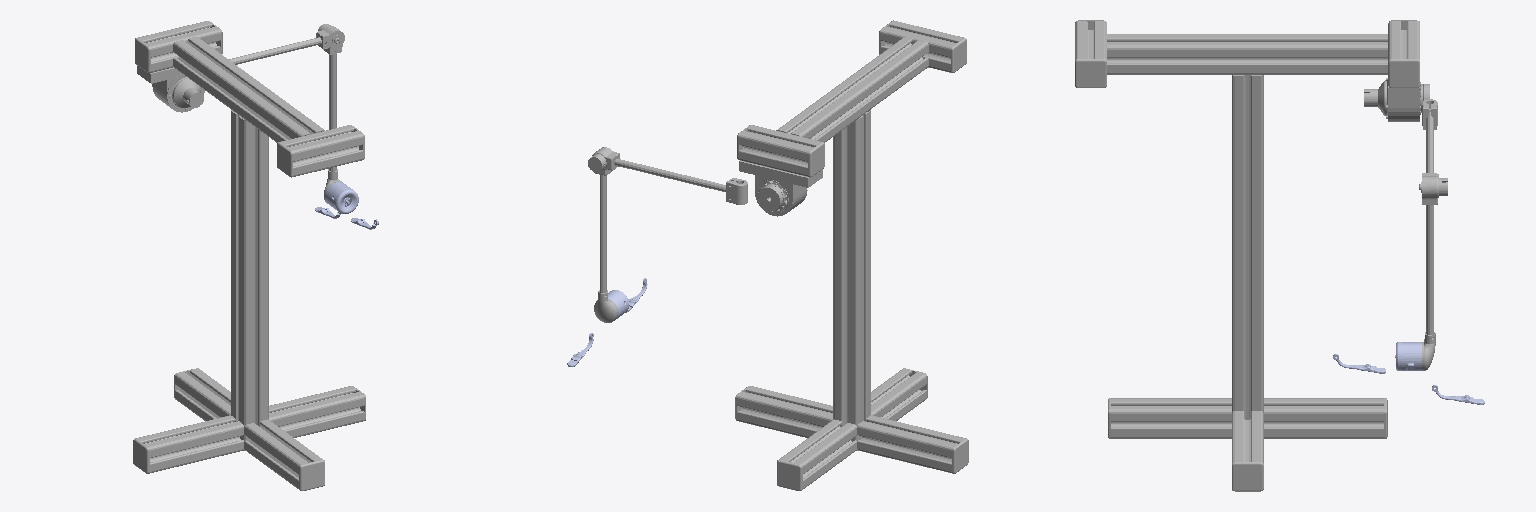
The robot description file, URDF, robot "simple_mtm":
<?xml version="1.0" encoding="utf-8"?>
<!-- This URDF was automatically created by SolidWorks to URDF Exporter! Originally created by Stephen Brawner (brawner@gmail.com) 
     Commit Version: 1.6.0-4-g7f85cfe  Build Version: 1.6.7995.38578
     For more information, please see http://wiki.ros.org/sw_urdf_exporter -->
<robot
  name="simple_mtm">
  <link
    name="base_link">
    <inertial>
      <origin
        xyz="5.47199332572765E-12 0.121119699522856 -0.0331941103362252"
        rpy="0 0 0" />
      <mass
        value="1.10120945723253" />
      <inertia
        ixx="0.00778946719068148"
        ixy="-7.15588223428412E-15"
        ixz="1.55089536398017E-14"
        iyy="0.00283497412761364"
        iyz="6.01985020734708E-07"
        izz="0.00613139149583514" />
    </inertial>
    <visual>
      <origin
        xyz="0 0 0"
        rpy="0 0 0" />
      <geometry>
        <mesh
          filename="package://simple_mtm/meshes/base_link.STL" />
      </geometry>
      <material
        name="">
        <color
          rgba="0.752941176470588 0.752941176470588 0.752941176470588 1" />
      </material>
    </visual>
    <collision>
      <origin
        xyz="0 0 0"
        rpy="0 0 0" />
      <geometry>
        <mesh
          filename="package://simple_mtm/meshes/base_link.STL" />
      </geometry>
    </collision>
  </link>
  <link
    name="right_J1_link">
    <inertial>
      <origin
        xyz="-0.0272468641090276 -0.00431239962158658 0.0136177788693085"
        rpy="0 0 0" />
      <mass
        value="0.217265269014196" />
      <inertia
        ixx="8.82896586774553E-05"
        ixy="-5.23747831657551E-06"
        ixz="4.84618661160366E-07"
        iyy="9.88337545554135E-05"
        iyz="3.16056040568793E-07"
        izz="0.000161817724573326" />
    </inertial>
    <visual>
      <origin
        xyz="0 0 0"
        rpy="0 0 0" />
      <geometry>
        <mesh
          filename="package://simple_mtm/meshes/right_J1_link.STL" />
      </geometry>
      <material
        name="">
        <color
          rgba="0.752941176470588 0.752941176470588 0.752941176470588 1" />
      </material>
    </visual>
    <collision>
      <origin
        xyz="0 0 0"
        rpy="0 0 0" />
      <geometry>
        <mesh
          filename="package://simple_mtm/meshes/right_J1_link.STL" />
      </geometry>
    </collision>
  </link>
  <joint
    name="right_J1_joint"
    type="continuous">
    <origin
      xyz="0 0.217 0.285"
      rpy="-1.5708 0 0" />
    <parent
      link="base_link" />
    <child
      link="right_J1_link" />
    <axis
      xyz="0 0 1" />
  </joint>
  <link
    name="right_J2_link">
    <inertial>
      <origin
        xyz="-0.113474393867848 0.00107776626147305 -1.35568759274118E-07"
        rpy="0 0 0" />
      <mass
        value="0.028442603557216" />
      <inertia
        ixx="2.23413747833826E-06"
        ixy="-8.63056316192389E-08"
        ixz="-3.63778380649549E-11"
        iyy="2.18319915210086E-05"
        iyz="1.9508735397818E-13"
        izz="2.11946804960037E-05" />
    </inertial>
    <visual>
      <origin
        xyz="0 0 0"
        rpy="0 0 0" />
      <geometry>
        <mesh
          filename="package://simple_mtm/meshes/right_J2_link.STL" />
      </geometry>
      <material
        name="">
        <color
          rgba="0.752941176470588 0.752941176470588 0.752941176470588 1" />
      </material>
    </visual>
    <collision>
      <origin
        xyz="0 0 0"
        rpy="0 0 0" />
      <geometry>
        <mesh
          filename="package://simple_mtm/meshes/right_J2_link.STL" />
      </geometry>
    </collision>
  </link>
  <joint
    name="right_J2_joint"
    type="continuous">
    <origin
      xyz="0.045 0 0.01"
      rpy="1.5708 0 -3.1416" />
    <parent
      link="right_J1_link" />
    <child
      link="right_J2_link" />
    <axis
      xyz="0 0 -1" />
  </joint>
  <link
    name="right_J3_link">
    <inertial>
      <origin
        xyz="0.169855168699459 -0.00305883869518506 0.000145482432677757"
        rpy="0 0 0" />
      <mass
        value="0.0380698507753149" />
      <inertia
        ixx="3.57015181851886E-06"
        ixy="5.77797289979546E-08"
        ixz="-8.33816062442827E-09"
        iyy="2.5059042912064E-05"
        iyz="-4.10119336283237E-09"
        izz="2.3245937933752E-05" />
    </inertial>
    <visual>
      <origin
        xyz="0 0 0"
        rpy="0 0 0" />
      <geometry>
        <mesh
          filename="package://simple_mtm/meshes/right_J3_link.STL" />
      </geometry>
      <material
        name="">
        <color
          rgba="0.752941176470588 0.752941176470588 0.752941176470588 1" />
      </material>
    </visual>
    <collision>
      <origin
        xyz="0 0 0"
        rpy="0 0 0" />
      <geometry>
        <mesh
          filename="package://simple_mtm/meshes/right_J3_link.STL" />
      </geometry>
    </collision>
  </link>
  <joint
    name="right_J3_joint"
    type="continuous">
    <origin
      xyz="-0.2175 -0.0095 0"
      rpy="0 -1.5708 0" />
    <parent
      link="right_J2_link" />
    <child
      link="right_J3_link" />
    <axis
      xyz="0 1 0" />
  </joint>
  <link
    name="right_G3_link">
    <inertial>
      <origin
        xyz="-0.000538298034257867 -0.0205137660110619 -6.93755568065696E-05"
        rpy="0 0 0" />
      <mass
        value="0.0139115090394775" />
      <inertia
        ixx="2.05714095768685E-06"
        ixy="1.18920441797098E-08"
        ixz="1.26103314022523E-08"
        iyy="3.24885522100955E-06"
        iyz="8.79998026858796E-09"
        izz="2.08516206561186E-06" />
    </inertial>
    <visual>
      <origin
        xyz="0 0 0"
        rpy="0 0 0" />
      <geometry>
        <mesh
          filename="package://simple_mtm/meshes/right_G3_link.STL" />
      </geometry>
      <material
        name="">
        <color
          rgba="0.792156862745098 0.819607843137255 0.933333333333333 1" />
      </material>
    </visual>
    <collision>
      <origin
        xyz="0 0 0"
        rpy="0 0 0" />
      <geometry>
        <mesh
          filename="package://simple_mtm/meshes/right_G3_link.STL" />
      </geometry>
    </collision>
  </link>
  <joint
    name="right_G3_joint"
    type="continuous">
    <origin
      xyz="0.2325 -0.0005 0"
      rpy="0 1.5708 0" />
    <parent
      link="right_J3_link" />
    <child
      link="right_G3_link" />
    <axis
      xyz="0 1 0" />
  </joint>
  <link
    name="right_G2_link">
    <inertial>
      <origin
        xyz="-0.000390964800847493 2.19780089573407E-05 -0.00102567858648986"
        rpy="0 0 0" />
      <mass
        value="0.000175394578104925" />
      <inertia
        ixx="6.00806245621315E-09"
        ixy="1.19071568961015E-11"
        ixz="-1.77273008759156E-09"
        iyy="7.79464906245331E-09"
        iyz="3.12378910526835E-11"
        izz="2.03310817422897E-09" />
    </inertial>
    <visual>
      <origin
        xyz="0 0 0"
        rpy="0 0 0" />
      <geometry>
        <mesh
          filename="package://simple_mtm/meshes/right_G2_link.STL" />
      </geometry>
      <material
        name="">
        <color
          rgba="0.792156862745098 0.819607843137255 0.933333333333333 1" />
      </material>
    </visual>
    <collision>
      <origin
        xyz="0 0 0"
        rpy="0 0 0" />
      <geometry>
        <mesh
          filename="package://simple_mtm/meshes/right_G2_link.STL" />
      </geometry>
    </collision>
  </link>
  <joint
    name="right_G2_joint"
    type="continuous">
    <origin
      xyz="0 -0.02253 0"
      rpy="-3.1416 0.36417 -3.1416" />
    <parent
      link="right_G3_link" />
    <child
      link="right_G2_link" />
    <axis
      xyz="0.35618 0 0.93442" />
  </joint>
  <link
    name="right_G1_link">
    <inertial>
      <origin
        xyz="2.25192645086914E-09 -0.000108452700938511 3.32154054261125E-09"
        rpy="0 0 0" />
      <mass
        value="0.000579837865976285" />
      <inertia
        ixx="1.26865038039388E-08"
        ixy="-2.87277031476485E-15"
        ixz="3.44857716014256E-10"
        iyy="6.98315303670725E-09"
        iyz="1.6483012048175E-15"
        izz="1.34597899626725E-08" />
    </inertial>
    <visual>
      <origin
        xyz="0 0 0"
        rpy="0 0 0" />
      <geometry>
        <mesh
          filename="package://simple_mtm/meshes/right_G1_link.STL" />
      </geometry>
      <material
        name="">
        <color
          rgba="0.792156862745098 0.819607843137255 0.933333333333333 1" />
      </material>
    </visual>
    <collision>
      <origin
        xyz="0 0 0"
        rpy="0 0 0" />
      <geometry>
        <mesh
          filename="package://simple_mtm/meshes/right_G1_link.STL" />
      </geometry>
    </collision>
  </link>
  <joint
    name="right_G1_joint"
    type="continuous">
    <origin
      xyz="0 0 0"
      rpy="0 0 0" />
    <parent
      link="right_G2_link" />
    <child
      link="right_G1_link" />
    <axis
      xyz="0.93442 0 -0.35618" />
  </joint>
  <link
    name="right_G0_1_link">
    <inertial>
      <origin
        xyz="0.00495725277495712 0.0335829908035108 0.0131185541022462"
        rpy="0 0 0" />
      <mass
        value="0.00204075415287886" />
      <inertia
        ixx="7.29183551455895E-07"
        ixy="-6.03030711122792E-08"
        ixz="-1.19420109398708E-08"
        iyy="6.4774196476192E-08"
        iyz="-1.3976157023198E-07"
        izz="7.10623170243126E-07" />
    </inertial>
    <visual>
      <origin
        xyz="0 0 0"
        rpy="0 0 0" />
      <geometry>
        <mesh
          filename="package://simple_mtm/meshes/right_G0_1_link.STL" />
      </geometry>
      <material
        name="">
        <color
          rgba="0.792156862745098 0.819607843137255 0.933333333333333 1" />
      </material>
    </visual>
    <collision>
      <origin
        xyz="0 0 0"
        rpy="0 0 0" />
      <geometry>
        <mesh
          filename="package://simple_mtm/meshes/right_G0_1_link.STL" />
      </geometry>
    </collision>
  </link>
  <joint
    name="right_G0_1_joint"
    type="continuous">
    <origin
      xyz="0 -0.0843 0"
      rpy="-3.1218 -7.4478E-05 -3.1341" />
    <parent
      link="right_G1_link" />
    <child
      link="right_G0_1_link" />
    <axis
      xyz="0.93442 0 -0.35618" />
  </joint>
  <link
    name="right_G0_2_link">
    <inertial>
      <origin
        xyz="0.0051079319667735 -0.088944870622326 0.0529085639711702"
        rpy="0 0 0" />
      <mass
        value="0.0020407540989002" />
      <inertia
        ixx="7.29183560316142E-07"
        ixy="-6.03030754021601E-08"
        ixz="-1.19420115546961E-08"
        iyy="6.47741938420838E-08"
        iyz="-1.39761574634634E-07"
        izz="7.10623180129946E-07" />
    </inertial>
    <visual>
      <origin
        xyz="0 0 0"
        rpy="0 0 0" />
      <geometry>
        <mesh
          filename="package://simple_mtm/meshes/right_G0_2_link.STL" />
      </geometry>
      <material
        name="">
        <color
          rgba="0.792156862745098 0.819607843137255 0.933333333333333 1" />
      </material>
    </visual>
    <collision>
      <origin
        xyz="0 0 0"
        rpy="0 0 0" />
      <geometry>
        <mesh
          filename="package://simple_mtm/meshes/right_G0_2_link.STL" />
      </geometry>
    </collision>
  </link>
  <joint
    name="right_G0_2_link"
    type="fixed">
    <origin
      xyz="0.00017052 0.038498 -0.038947"
      rpy="0.0068696 0 -0.0026185" />
    <parent
      link="right_G1_link" />
    <child
      link="right_G0_2_link" />
    <axis
      xyz="0 0 0" />
  </joint>
</robot>

--- Render facts (derived) ---
3 views of the same robot in one strip: view 1: azimuth 30°, elevation 25°; view 2: azimuth 150°, elevation 25°; view 3: azimuth 270°, elevation 25° (orthographic).
Robot: simple_mtm — 9 links, 8 joints (7 continuous, 1 fixed); root link base_link; default pose: all joints at 0.
Links seen in each view (by area): view 1: base_link, right_J2_link, right_J3_link, right_G3_link; view 2: base_link, right_J2_link, right_J3_link; view 3: base_link, right_J3_link, right_J2_link, right_G3_link.
Link boxes in pixels (left/top/right/bottom): base_link: left=133, top=21, right=365, bottom=490; right_J2_link: left=229, top=24, right=344, bottom=64; right_J3_link: left=324, top=26, right=344, bottom=203; right_G3_link: left=325, top=182, right=358, bottom=213; base_link: left=735, top=20, right=968, bottom=490; right_J2_link: left=588, top=147, right=747, bottom=204; right_J3_link: left=594, top=147, right=617, bottom=322; base_link: left=1075, top=20, right=1429, bottom=491; right_J3_link: left=1422, top=176, right=1437, bottom=370; right_J2_link: left=1419, top=99, right=1447, bottom=197; right_G3_link: left=1396, top=342, right=1421, bottom=370.
Size in the robot's own frame: 0.4565 by 0.5104 by 0.54 metres.
Meshes: 9 distinct files referenced, 7 mesh visuals loaded (7 binary STL); not drawn: 2 (reference not matched to a file when rendering).
